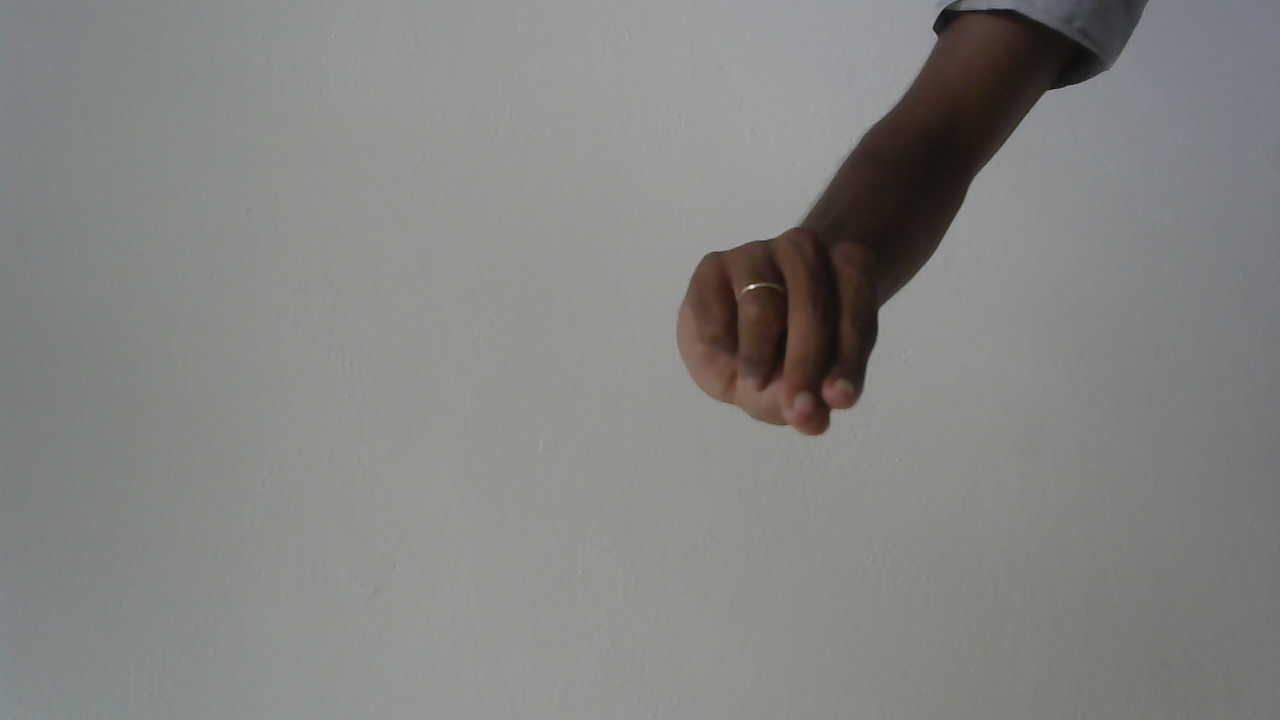no: (662, 218, 891, 448)
